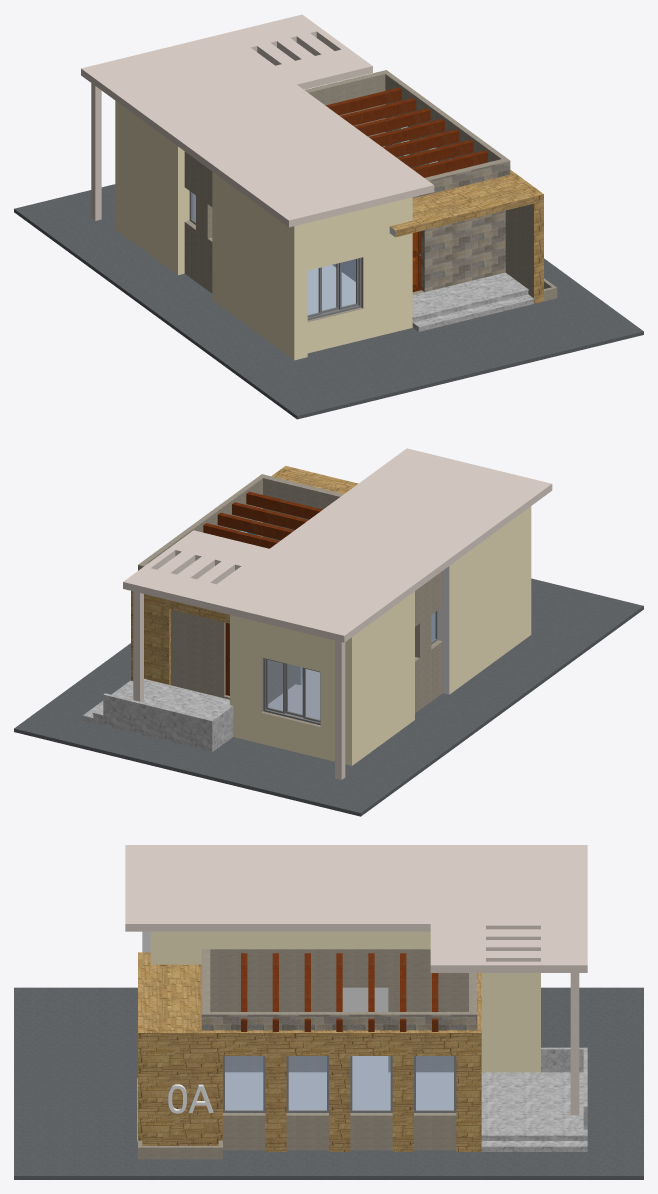
The picture shows the model from 3 angles, top to bottom: view 1: azimuth 30°, elevation 25°; view 2: azimuth 150°, elevation 25°; view 3: azimuth 270°, elevation 25°; orthographic projection. The views are drawn at different scales.
Parts seen in each view (by area): view 1: 31007, 32288, 34594, Component#3 (×7), 31325, 32114, Component#6, Component#1, Component#4; view 2: 31007, 32288, 34594, 34284, Component#3 (×4), Component#6, Component#1 (×2), 32114; view 3: 31007, 34594, 32288, Component#2 (×4), 34284, 32114, Component#3 (×6), Component#1, 34511, 0A.
Boxes of the visible parts, x1,y1,x2,y2 form: 31007: [115, 70, 543, 360]; 32288: [81, 14, 434, 227]; 34594: [14, 155, 643, 419]; Component#3 (×7): [325, 87, 487, 177]; 31325: [412, 272, 534, 331]; 32114: [389, 175, 533, 237]; Component#6: [307, 258, 361, 320]; Component#1: [91, 83, 101, 220]; Component#4: [412, 231, 421, 292]; 31007: [131, 466, 531, 765]; 32288: [123, 448, 552, 642]; 34594: [14, 578, 643, 816]; 34284: [82, 679, 233, 751]; Component#3 (×4): [203, 491, 322, 548]; Component#6: [263, 658, 320, 725]; Component#1 (×2): [133, 591, 345, 779]; 32114: [281, 468, 358, 493]; 31007: [138, 931, 540, 1151]; 34594: [14, 987, 643, 1179]; 32288: [125, 845, 587, 972]; Component#2 (×4): [223, 1056, 456, 1112]; 34284: [481, 1047, 587, 1151]; 32114: [138, 952, 201, 1027]; Component#3 (×6): [241, 953, 406, 1031]; Component#1: [570, 973, 579, 1115]; 34511: [138, 1140, 222, 1159]; 0A: [168, 1084, 213, 1113].
Size of the model in its own units: 10.5 by 4.4 by 14.85.
616 materials, 261 textured.
